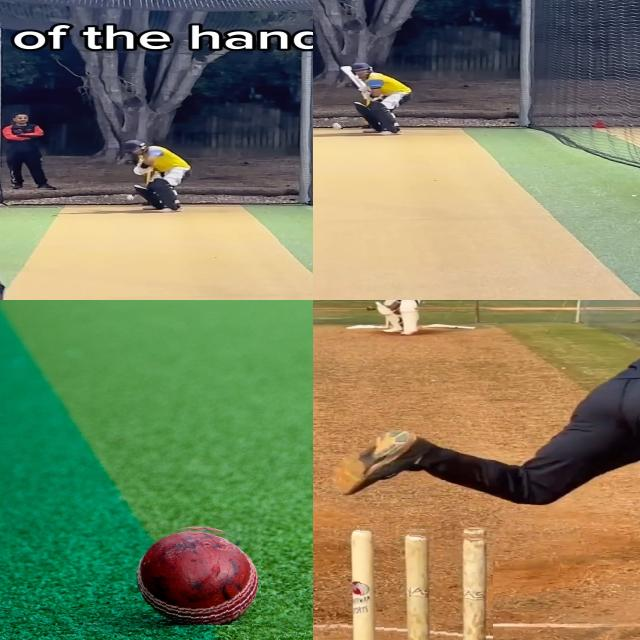Cricket ball: (135, 524, 261, 625), (331, 122, 343, 129), (125, 194, 135, 200), (367, 306, 376, 310)
Stumps: (340, 523, 493, 640)
